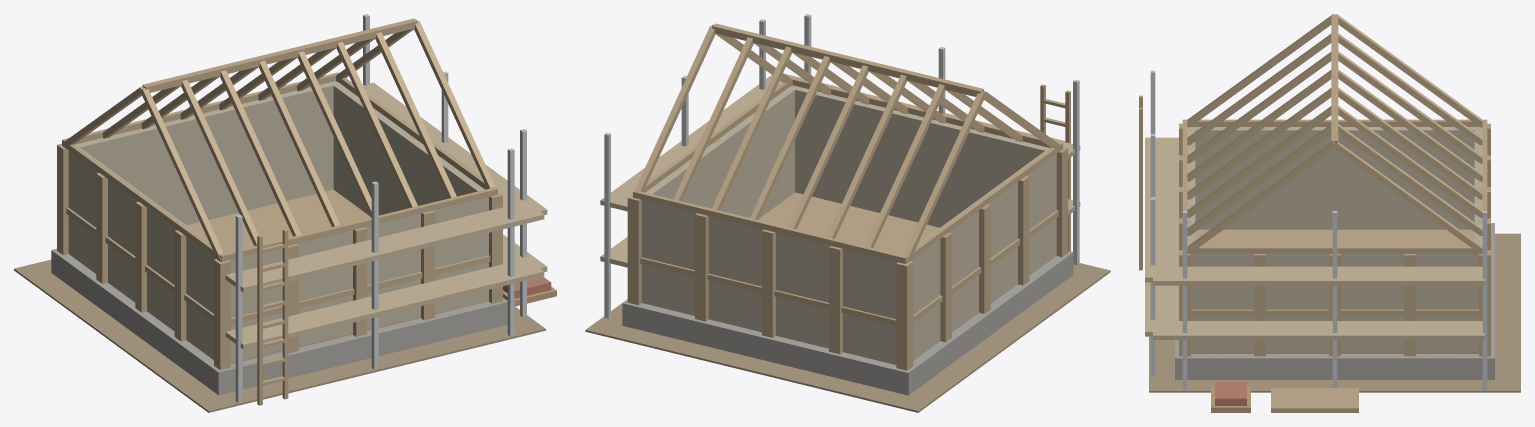
Rendered from goat_pen_site_9.glb.
The picture shows the model from 3 angles, left to right: view 1: azimuth 30°, elevation 25°; view 2: azimuth 150°, elevation 25°; view 3: azimuth 270°, elevation 25°; orthographic projection. The views are drawn at different scales.
Parts seen in each view (by area): view 1: body; view 2: body; view 3: body.
Part boxes in pixels (left/top/right/bottom): body: left=14, top=14, right=556, bottom=412; body: left=585, top=14, right=1110, bottom=412; body: left=1139, top=14, right=1520, bottom=412.
Bounding box in the file's own units: 2.1 × 1.31 × 1.91.
